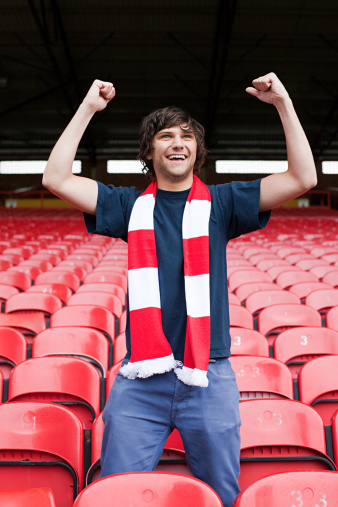em pe: (59, 85, 318, 481)
